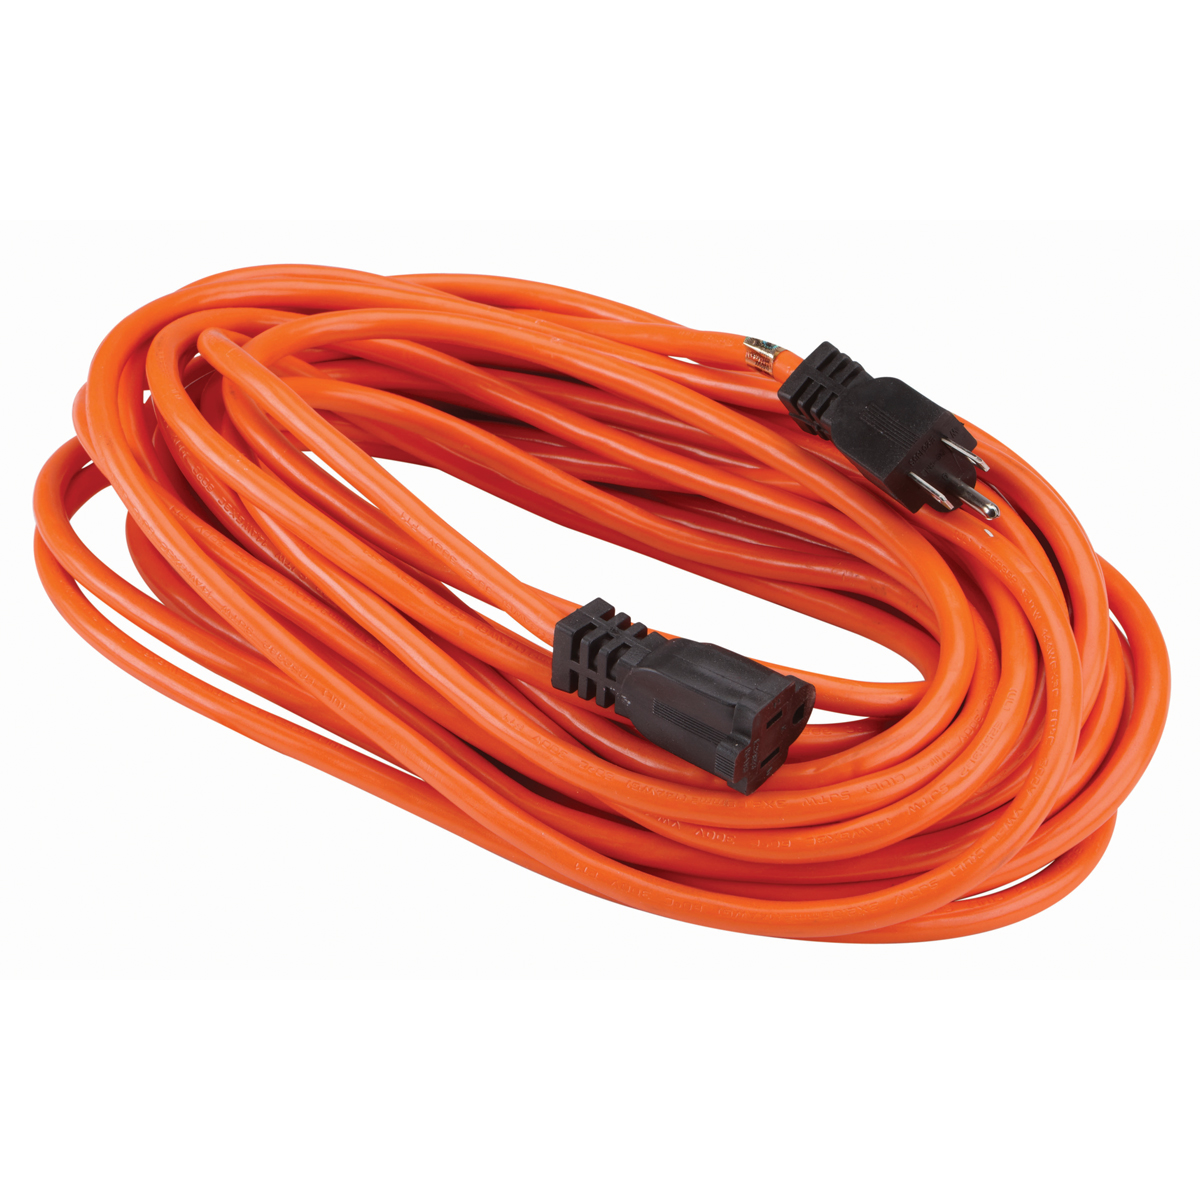Nonrec_Tangler: (40, 225, 1163, 956)
